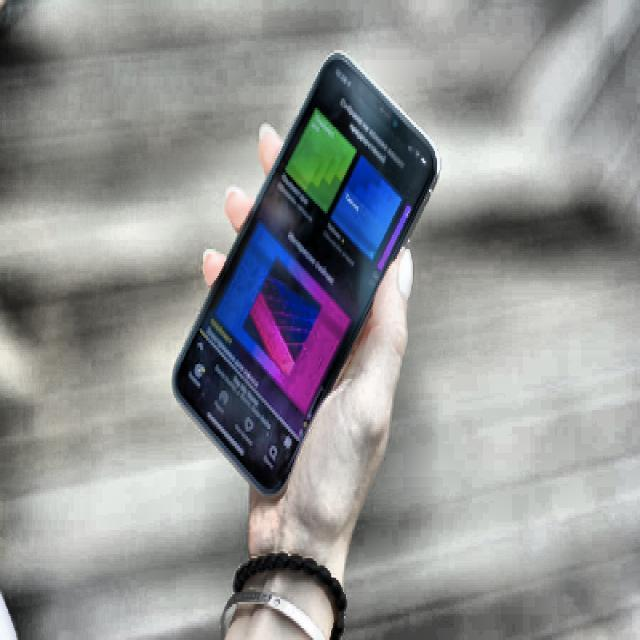Phone: (170, 53, 440, 500)
